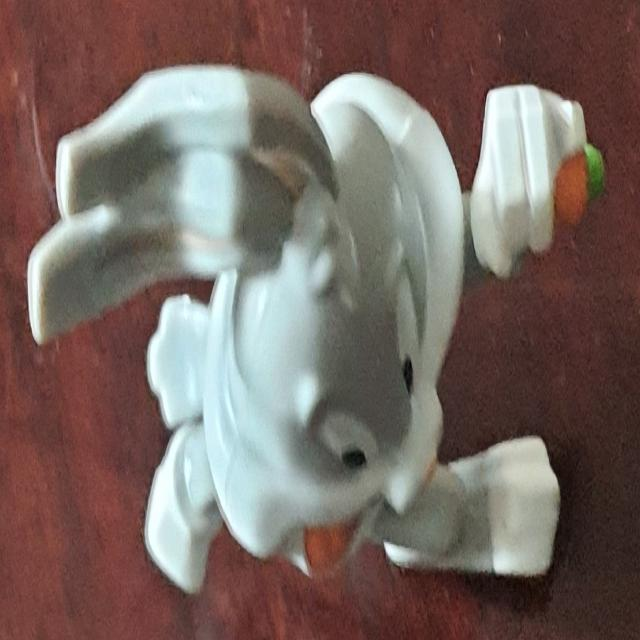Rabbit: (26, 59, 563, 596)
